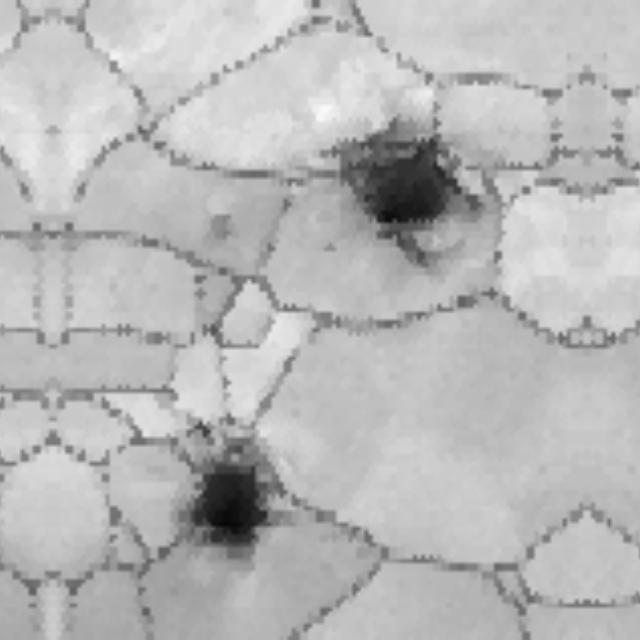good_void: (316, 118, 498, 278), (172, 433, 304, 585), (208, 211, 235, 249), (193, 418, 211, 449), (319, 238, 341, 258)
